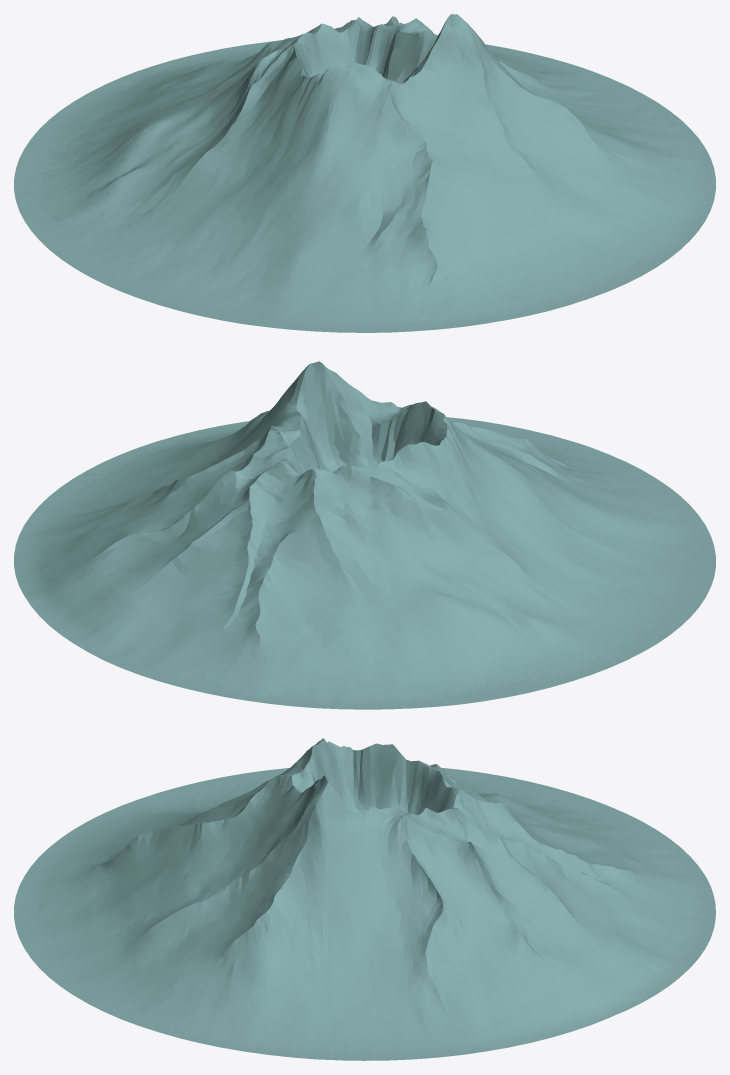
File: volcano_B_medium_uniclor.fbx
3 renders of one model, top to bottom at view 1: azimuth 30°, elevation 25°; view 2: azimuth 150°, elevation 25°; view 3: azimuth 270°, elevation 25°, orthographic.
Visible parts, largest first — view 1: volcano_B_medium_uniclor; view 2: volcano_B_medium_uniclor; view 3: volcano_B_medium_uniclor.
Part boxes in pixels (x1=…): volcano_B_medium_uniclor: x1=14, y1=14, x2=715, y2=332; volcano_B_medium_uniclor: x1=14, y1=361, x2=715, y2=709; volcano_B_medium_uniclor: x1=14, y1=738, x2=715, y2=1060.
Bounding box in the file's own units: 18726 × 4990 × 18719.
